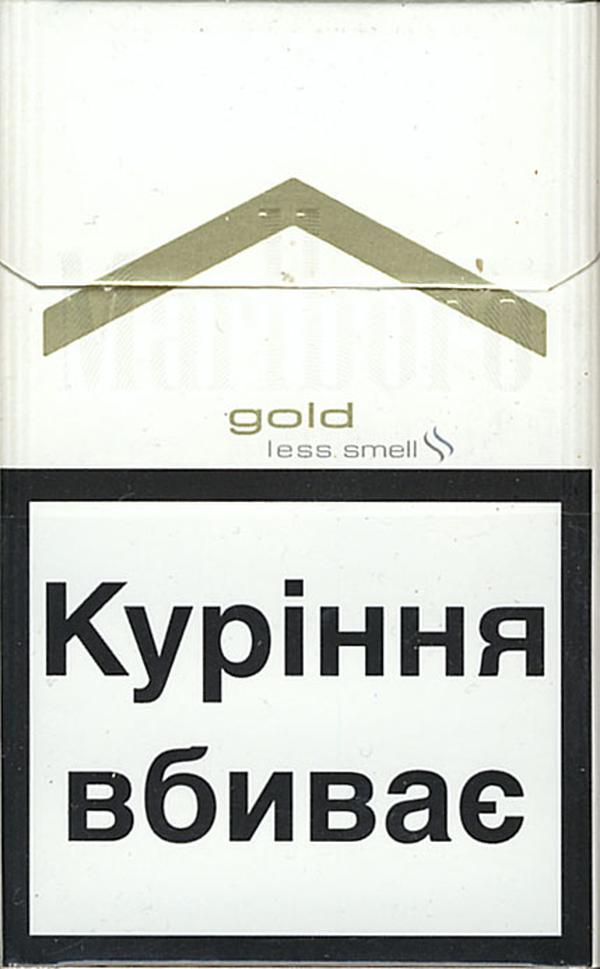marlboro_gold: (9, 7, 598, 968)
